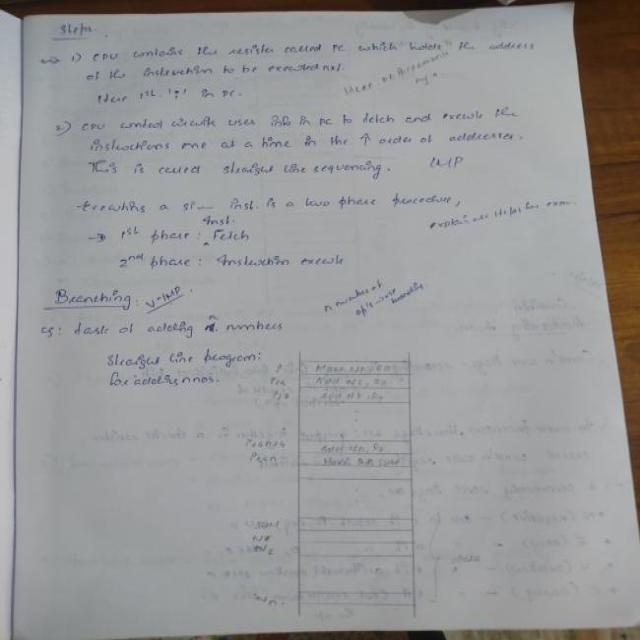Figure Detection - v3 Dataset Version2: (241, 344, 449, 625)
